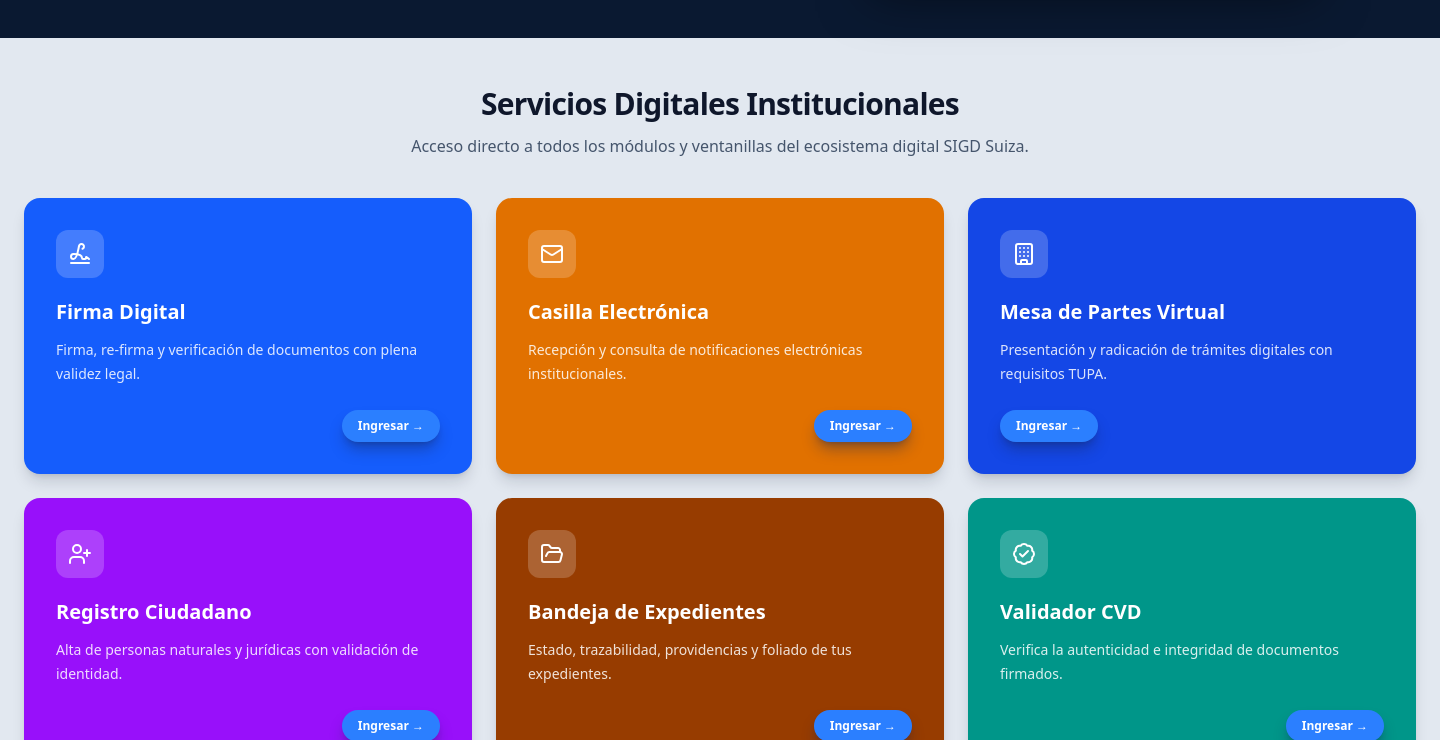
Test: Acceso a Mesa de Partes Virtual desde el portal › concede el acceso y navega a la vista interna con credenciales válidas
The width and height of the screenshot is (1440, 740).
(page scrolled)
Click the button "Mesa de Partes Virtual".
click(1024, 254)  # box [968,198,1416,474]
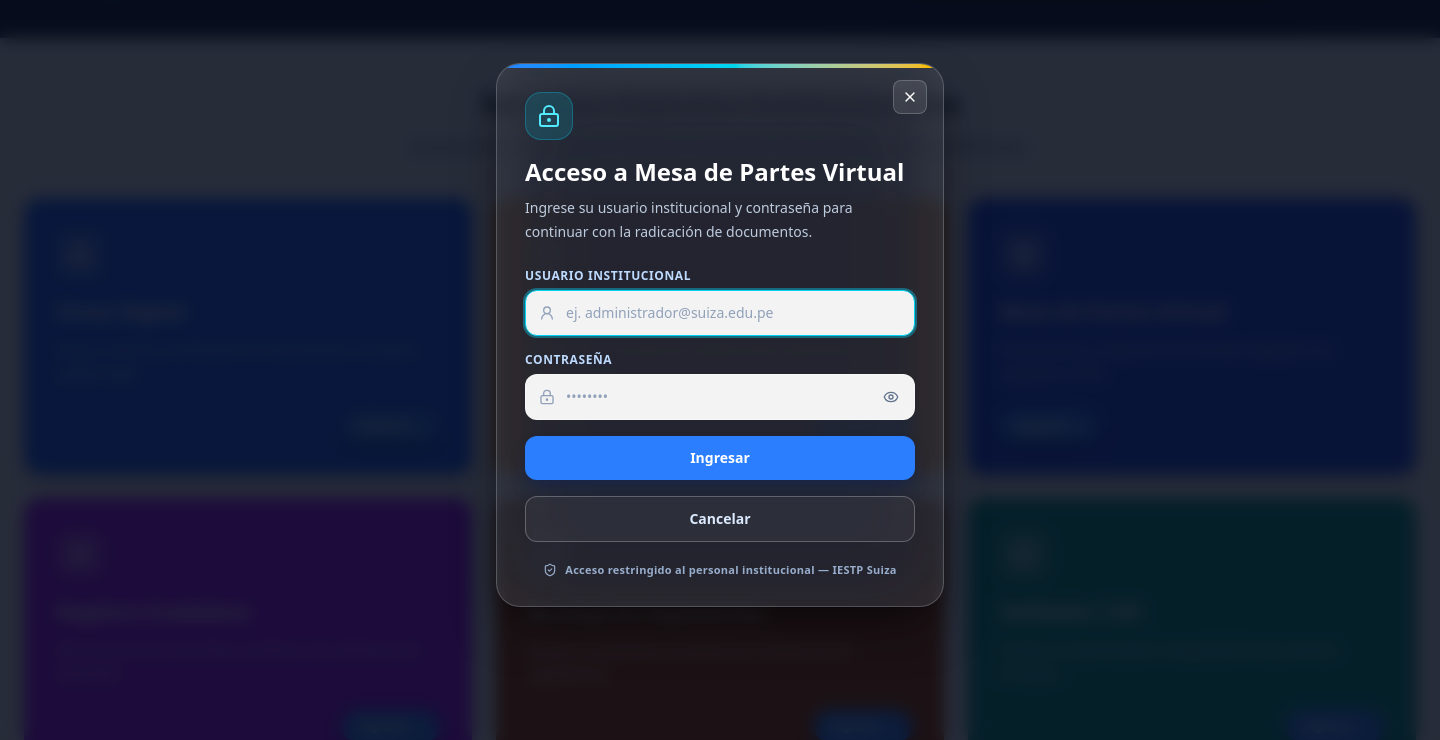
Type "administrador" into the field labelled "Usuario institucional".
click(720, 313); type("administrador")  # box [525,290,915,336]
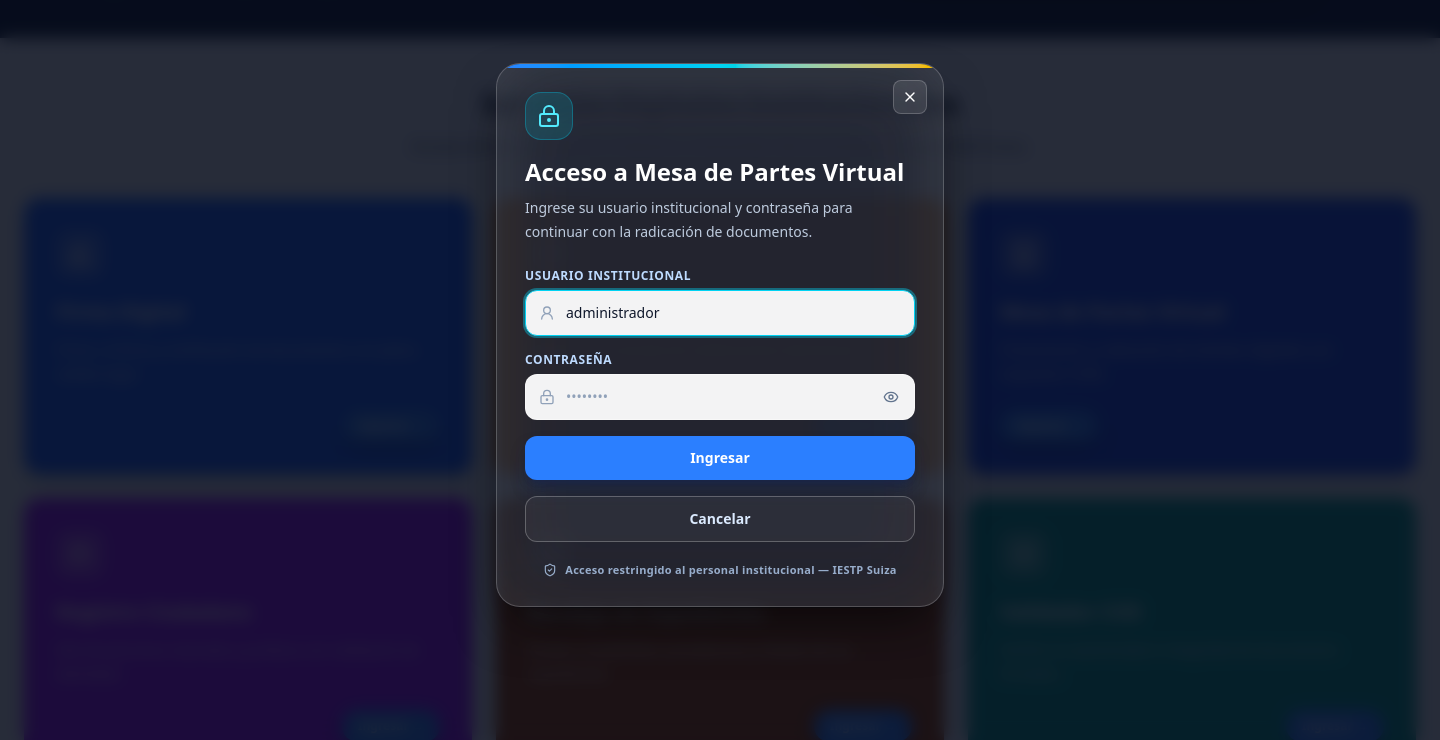
Type "secreta123" into the password field labelled "Contraseña".
click(720, 397); type("secreta123")  # box [525,374,915,420]
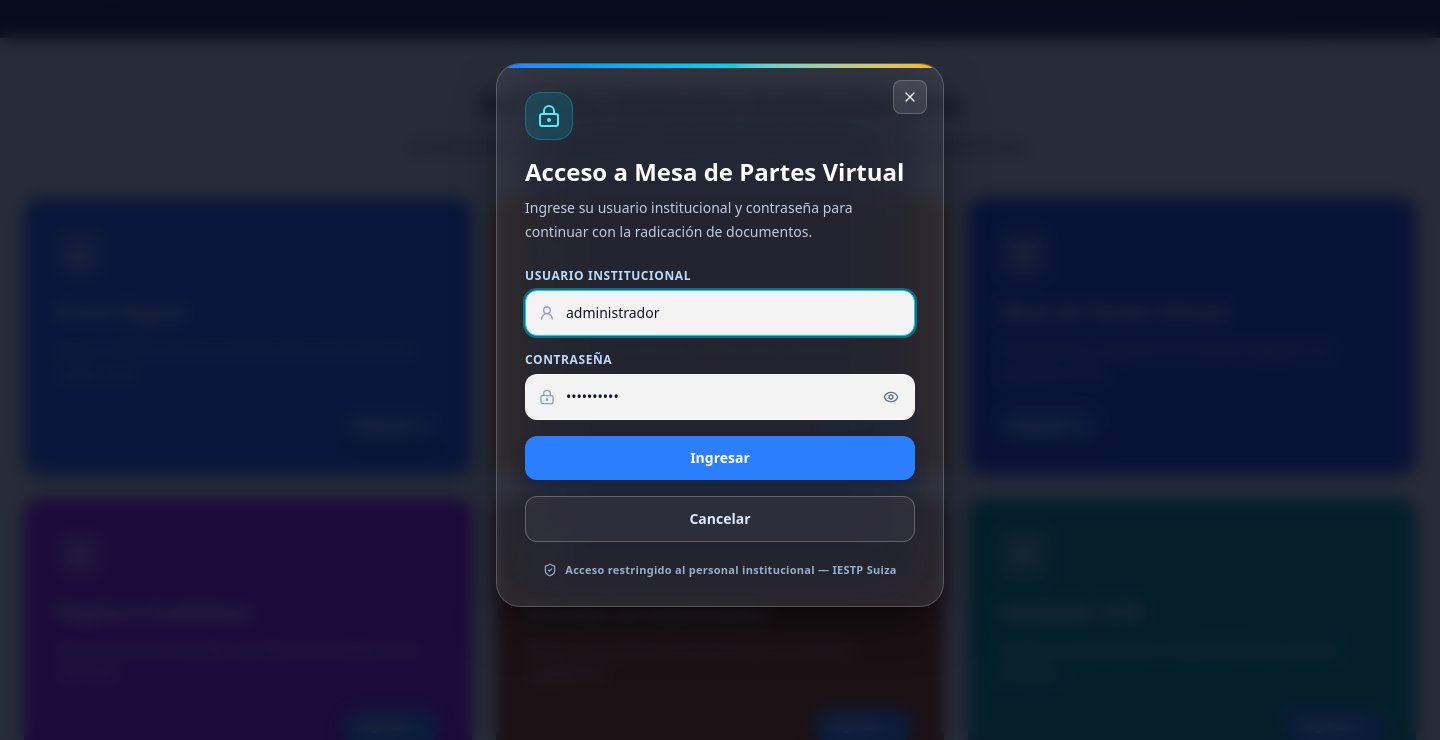
Click the button "Ingresar".
click(720, 458)  # box [525,436,915,480]
(page scrolled)
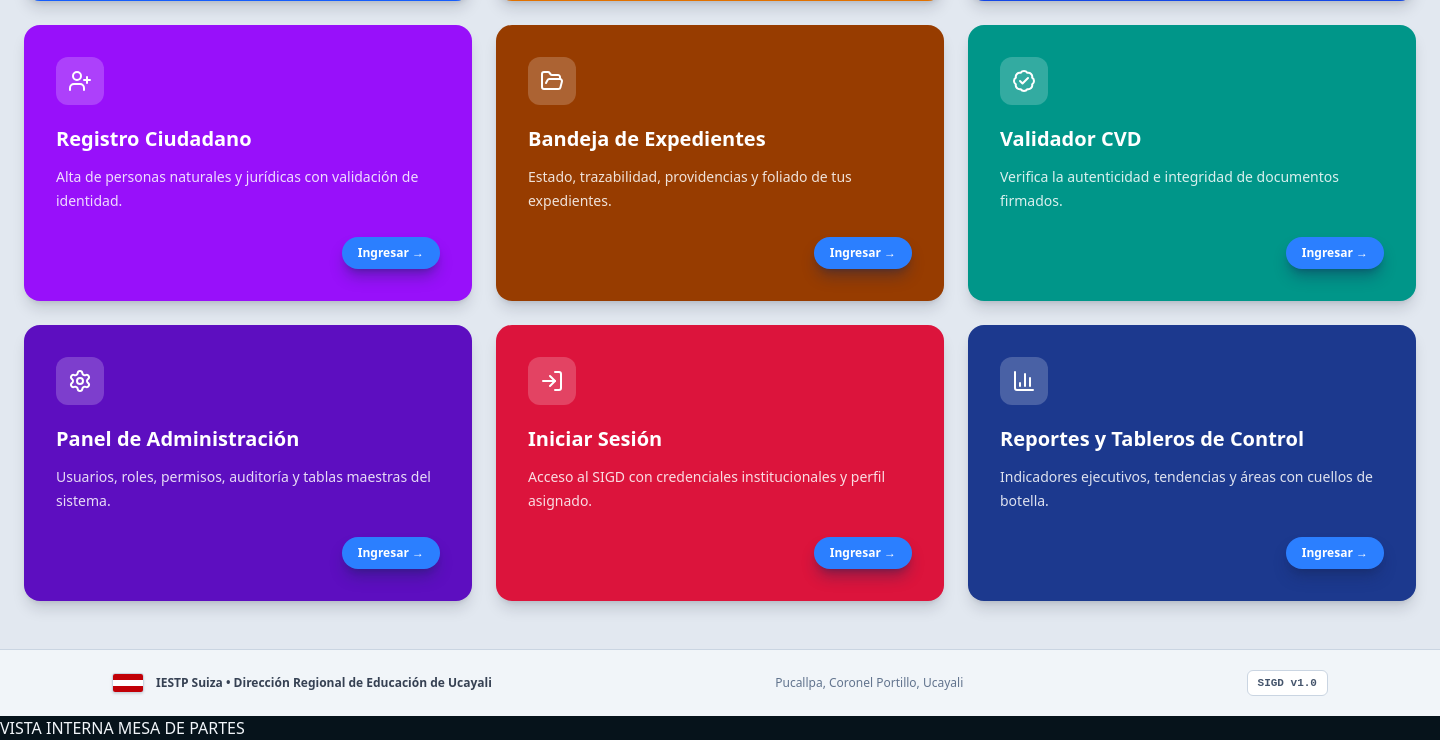
Check: the dialog is gone
Check: the text "VISTA INTERNA MESA DE PARTES" is shown, box [0,717,245,739]
